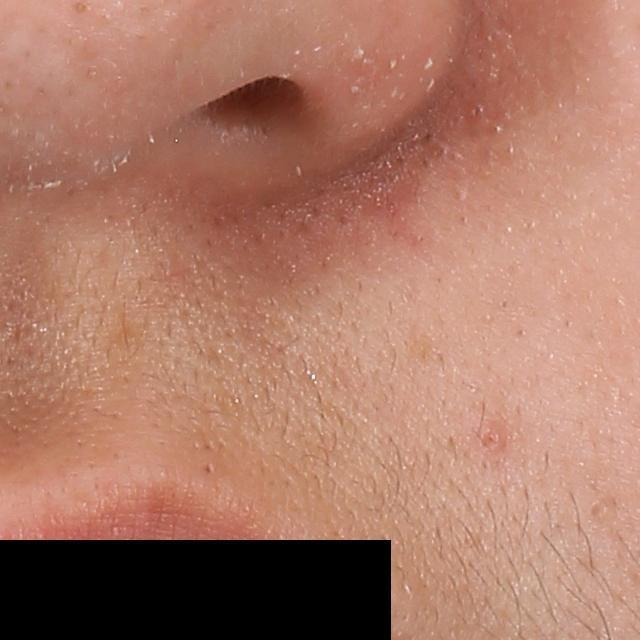comedo: (203, 461, 215, 476)
papule: (478, 423, 509, 451)
